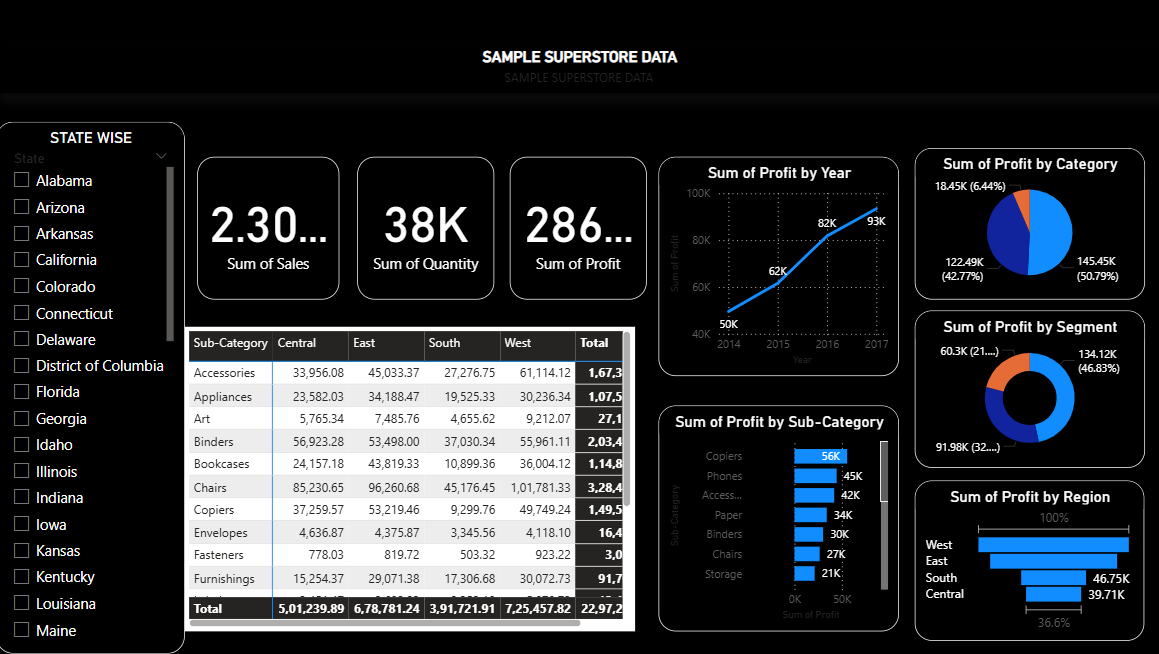

This screenshot's page, from the dashboard's own definition file:
{"tool":"powerbi","page":{"name":"Page 2","canvas":[1280,720],"ordinal":1},"visuals":[{"type":"pieChart","fields":{"Y":["Sum(Orders.Profit)"],"Category":["Orders.Category"]},"box":[1008.6,164.7,252.5,166],"z":0},{"type":"donutChart","fields":{"Y":["Sum(Orders.Profit)"],"Category":["Orders.Segment"]},"box":[1008.6,343.1,252.5,172.9],"z":1},{"type":"funnel","fields":{"Y":["Sum(Orders.Profit)"],"Category":["Orders.Region"]},"box":[1008,529.7,252,176.1],"z":2},{"type":"lineChart","fields":{"Category":["Orders.Order Date.Variation.Date Hierarchy.Year","Orders.Order Date.Variation.Date Hierarchy.Quarter","Orders.Order Date.Variation.Date Hierarchy.Month","Orders.Order Date.Variation.Date Hierarchy.Day"],"Y":["Sum(Orders.Profit)"]},"box":[727.5,174.8,264.2,241.2],"z":3},{"type":"barChart","fields":{"Category":["Orders.Sub-Category"],"Y":["Sum(Orders.Profit)"]},"box":[727.5,447.1,264.2,247.9],"z":4},{"type":"textbox","title":"SAMPLE SUPERSTORE DATA","box":[0,54.2,1280.3,51.5],"z":5},{"type":"pivotTable","fields":{"Rows":["Orders.Sub-Category"],"Columns":["Orders.Region"],"Values":["Sum(Orders.Sales)"]},"box":[207.3,360.4,494.5,334.6],"z":6},{"type":"slicer","title":"STATE WISE","fields":{"Values":["Orders.State"]},"box":[0,135.5,207.3,583.9],"z":7},{"type":"card","fields":{"Values":["Sum(Orders.Sales)"]},"box":[220.8,174.8,155.8,157.2],"z":8},{"type":"card","fields":{"Values":["Sum(Orders.Quantity)"]},"box":[397,174.8,150.4,157.2],"z":9},{"type":"card","fields":{"Values":["Sum(Orders.Profit)"]},"box":[563.6,174.8,150.4,157.2],"z":10}]}

Visuals, with their boxes in screenshot pixels (x1, y1, x2, y2), scaled from the page's 1280x720 canvas onto the 1159x654 screenshot:
pieChart - Sum(Orders.Profit) x Orders.Category: rect(913, 150, 1142, 300)
donutChart - Sum(Orders.Profit) x Orders.Segment: rect(913, 312, 1142, 469)
funnel - Sum(Orders.Profit) x Orders.Region: rect(913, 481, 1141, 641)
lineChart - Orders.Order Date.Variation.Date Hierarchy.Year x Orders.Order Date.Variation.Date Hierarchy.Quarter: rect(659, 159, 898, 378)
barChart - Orders.Sub-Category x Sum(Orders.Profit): rect(659, 406, 898, 631)
"SAMPLE SUPERSTORE DATA" textbox: rect(0, 49, 1158, 96)
pivotTable - Orders.Sub-Category x Orders.Region: rect(188, 327, 635, 631)
"STATE WISE" slicer: rect(0, 123, 188, 653)
card - Sum(Orders.Sales): rect(200, 159, 341, 302)
card - Sum(Orders.Quantity): rect(359, 159, 496, 302)
card - Sum(Orders.Profit): rect(510, 159, 647, 302)
